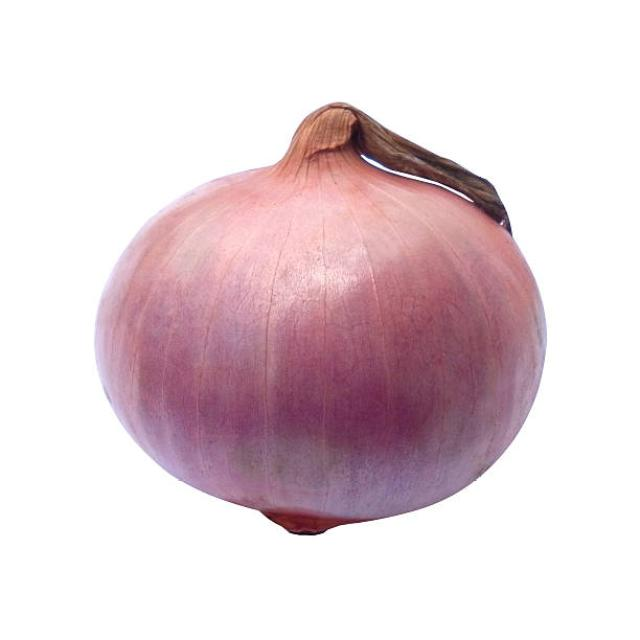onion: (90, 147, 554, 545)
